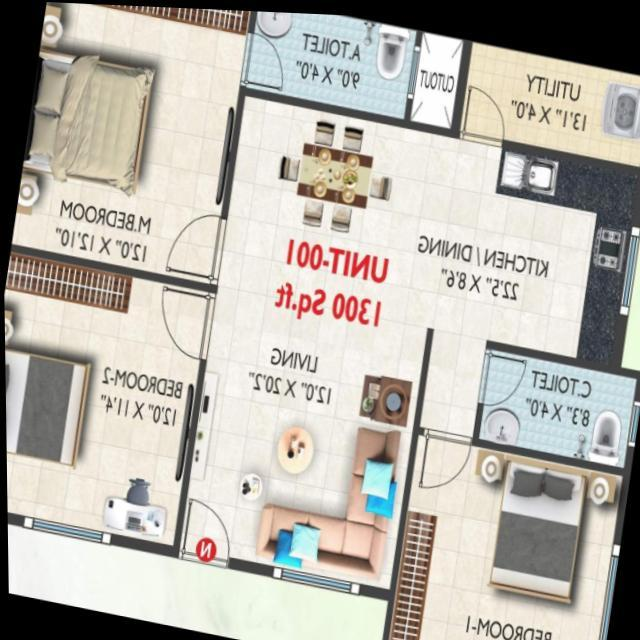Bedroom: (3, 249, 214, 548), (384, 427, 623, 640)
Bedroom with Toilet: (10, 2, 421, 288)
Dining: (269, 107, 402, 240)
Enterance-Foyer: (173, 493, 239, 566)
Kitchen: (383, 123, 639, 358)
Living: (174, 286, 428, 592)
Toilet: (476, 342, 637, 462), (244, 9, 418, 115)
Utility: (458, 37, 640, 163)
